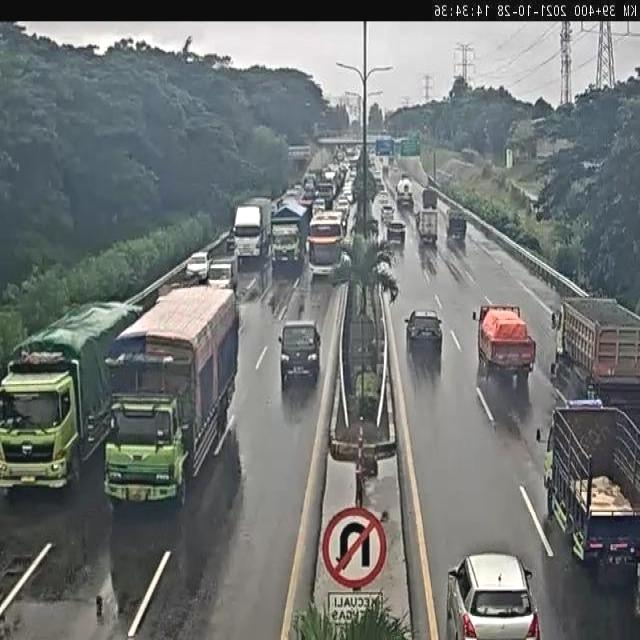Bus: (306, 211, 346, 278)
Car: (444, 550, 538, 637), (278, 319, 322, 388), (403, 307, 444, 353), (184, 252, 210, 284), (386, 220, 406, 245), (336, 197, 350, 224), (312, 197, 326, 216), (379, 204, 393, 220), (285, 188, 300, 200)
Truck: (106, 284, 237, 504), (1, 300, 135, 496), (543, 400, 640, 582), (553, 297, 640, 448), (477, 304, 537, 381), (273, 200, 312, 274), (232, 200, 271, 270), (416, 208, 438, 245), (447, 210, 466, 240), (398, 176, 415, 208)
